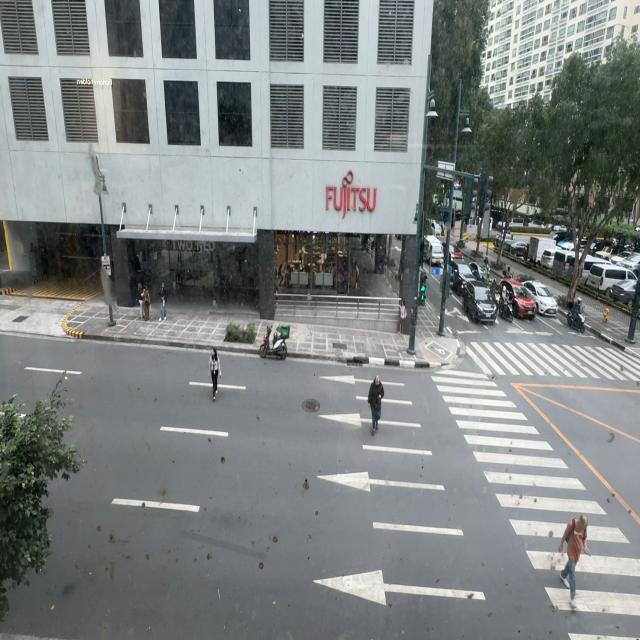crossing: (554, 513, 586, 606)
jaywalking: (367, 374, 384, 434), (209, 348, 222, 400)
pedestrain: (398, 298, 406, 334)
